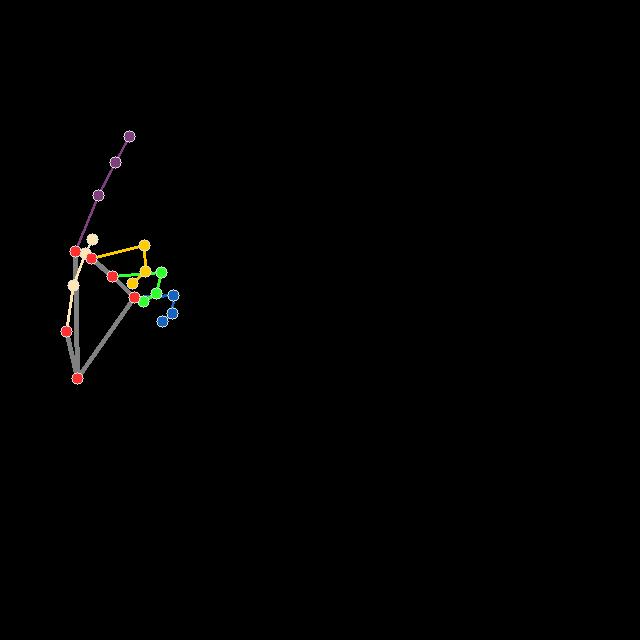gun: (56, 125, 186, 391)
